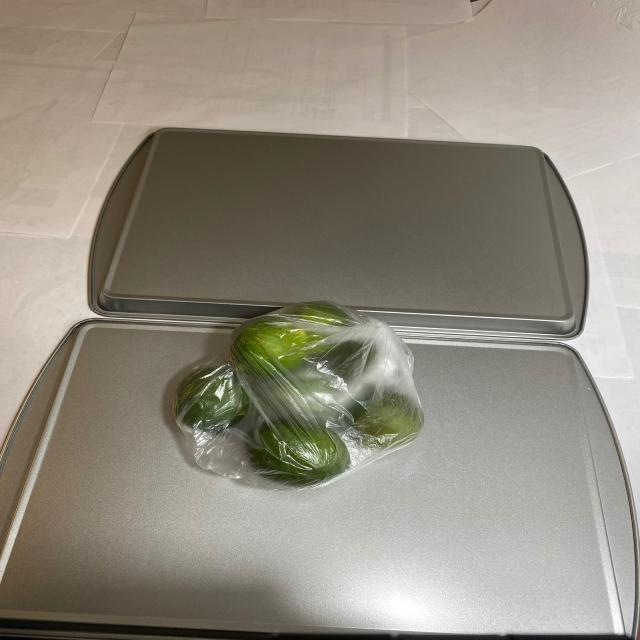lemon: (169, 300, 421, 488)
